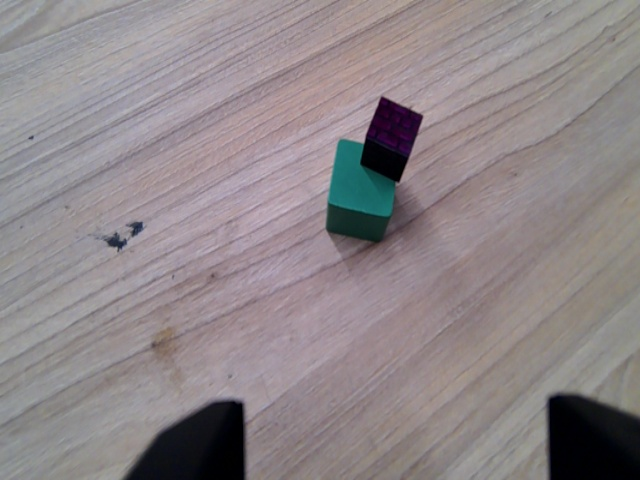brick: (357, 92, 425, 184)
